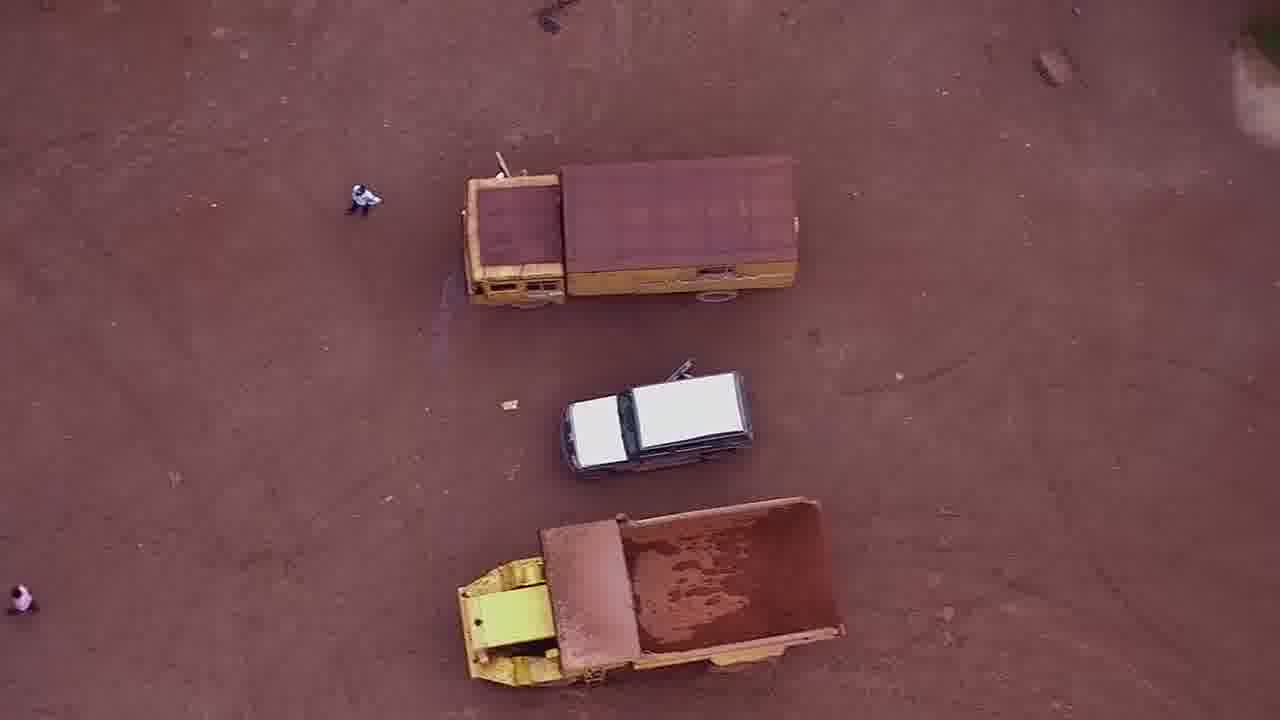HMV: (455, 494, 844, 689), (456, 146, 809, 310)
LMV: (557, 355, 754, 482)
Person: (340, 171, 384, 225), (5, 573, 41, 616)
